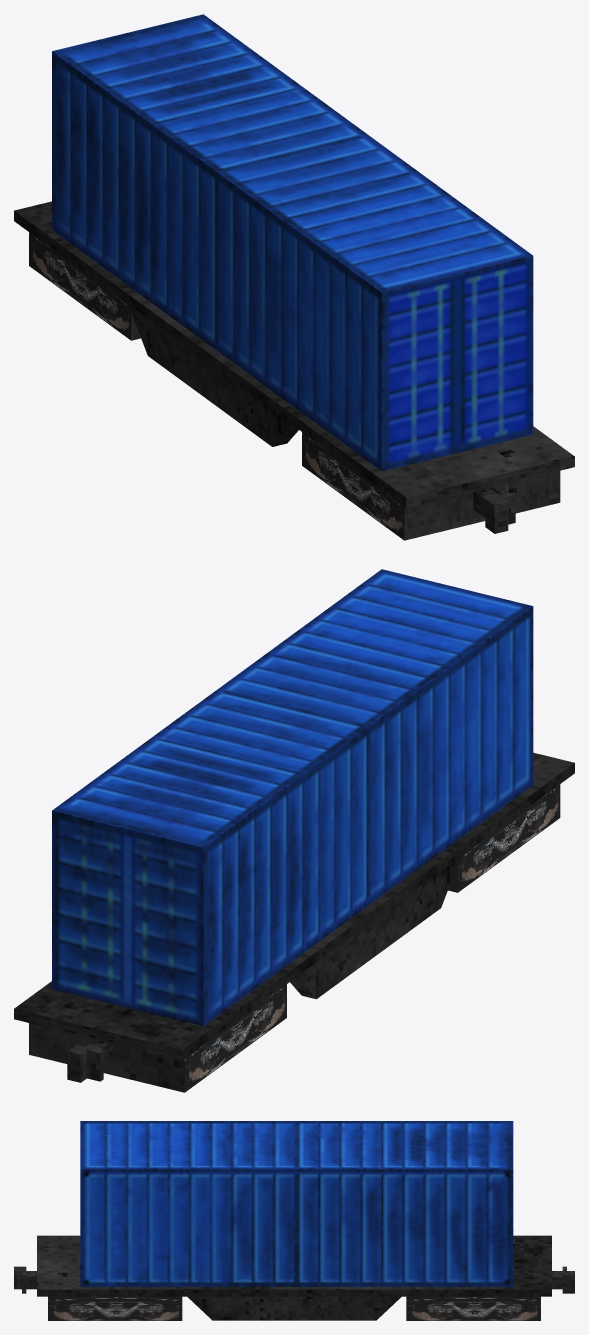
Rendered from pixel_train_car_blue_lowpoly.fbx.
The picture shows the model from 3 angles, top to bottom: view 1: azimuth 30°, elevation 25°; view 2: azimuth 150°, elevation 25°; view 3: azimuth 270°, elevation 25°; orthographic projection. The views are drawn at different scales.
Parts seen in each view (by area): view 1: psx_train_car_body_blue, psx_train_car_underbody, psx_train_car_wheels, psx_train_car_attach; view 2: psx_train_car_body_blue, psx_train_car_underbody, psx_train_car_wheels, psx_train_car_attach2; view 3: psx_train_car_body_blue, psx_train_car_underbody, psx_train_car_wheels, psx_train_car_attach, psx_train_car_attach2.
Part boxes in pixels (x1,y1,x2,y2): psx_train_car_body_blue: (52,14,533,471); psx_train_car_underbody: (14,201,574,508); psx_train_car_wheels: (29,232,560,540); psx_train_car_attach: (473,487,515,533); psx_train_car_body_blue: (52,569,533,1026); psx_train_car_underbody: (14,752,574,1060); psx_train_car_wheels: (29,784,560,1092); psx_train_car_attach2: (67,1039,115,1082); psx_train_car_body_blue: (80,1121,513,1286); psx_train_car_underbody: (37,1235,551,1320); psx_train_car_wheels: (48,1296,540,1320); psx_train_car_attach: (14,1266,36,1293); psx_train_car_attach2: (552,1266,574,1293).
Size of the model in its own units: 340 by 442 by 1492.
